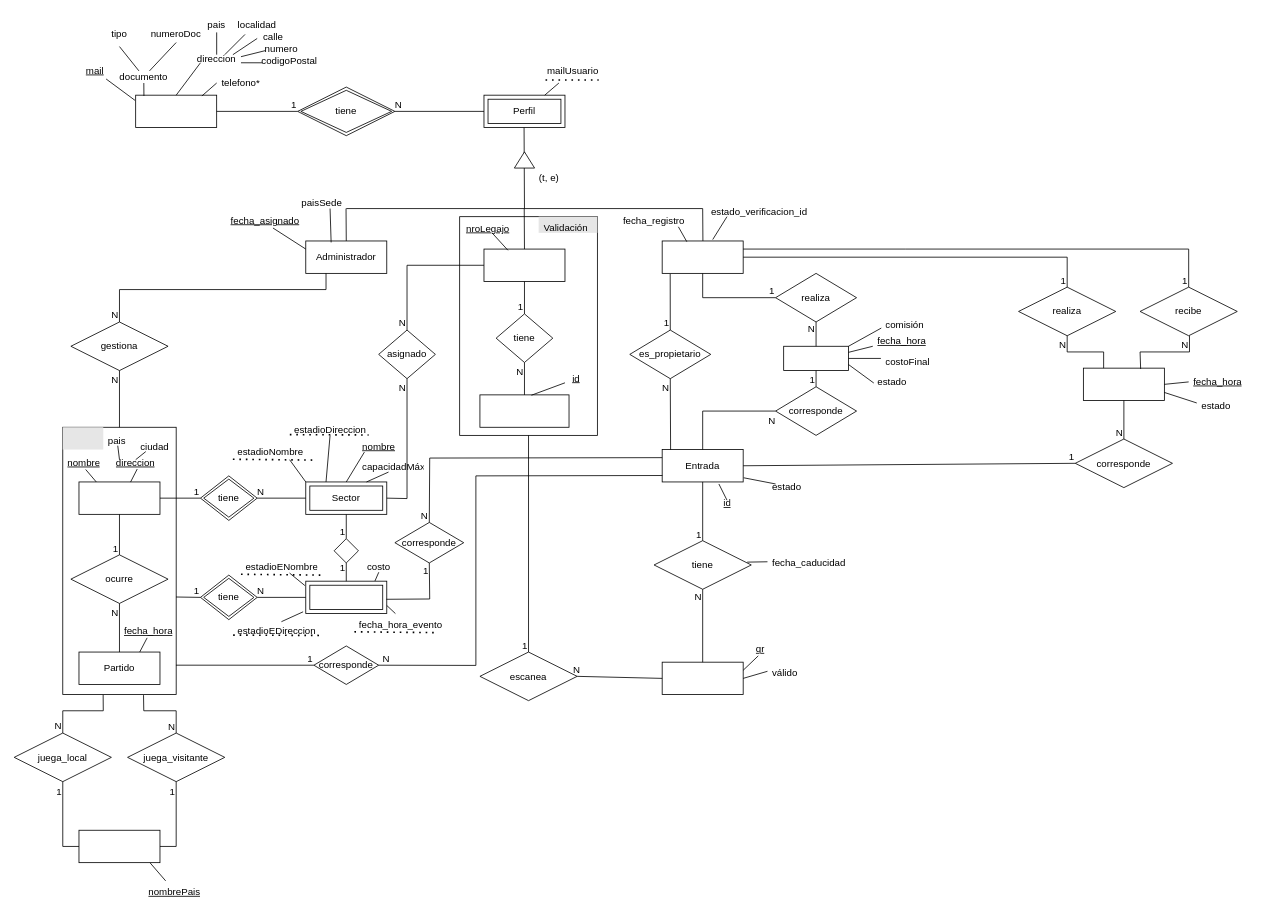
Some shapes in this 1276 by 921 pixel diagram are drawn without their labels. The centre of each missing label's shape, as x and y in pixels:
"DispositivoEscaneo" belongs at point 524,410.
"Equipo" belongs at point 119,846.
"es" belongs at point 345,550.
"Estadio" belongs at point 119,497.
"Evento" belongs at point 82,438.
"Funcionario" belongs at point 524,264.
"General" belongs at point 702,256.
"SectorEvento" belongs at point 346,597.
"Token" belongs at point 702,678.
"TransfEntrada" belongs at point 1123,384.
"Usuario" belongs at point 176,111.
"Venta" belongs at point 815,358.
